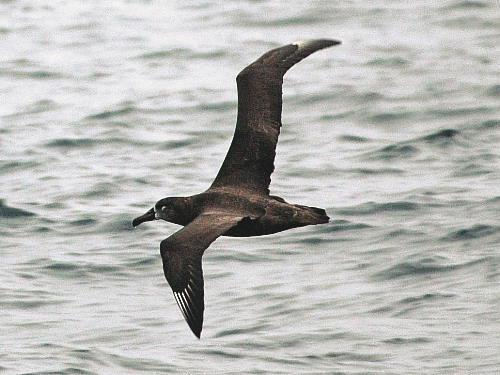001.Black_footed_Albatross: (130, 38, 342, 343)
